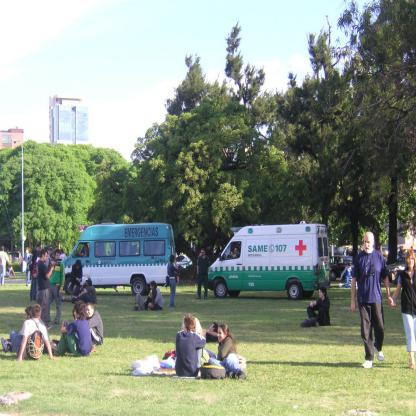Ambulance: (208, 220, 330, 299), (61, 223, 176, 294)
